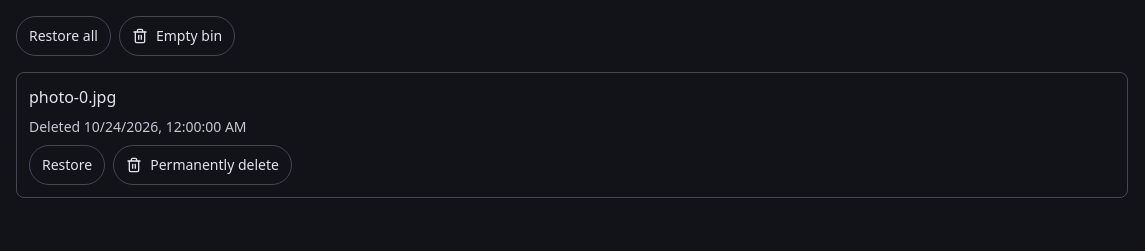
Scenario: a rejected restore keeps the row and shows the error
The image size is (1145, 251).
Click the button "Restore": (67, 165) [29,145,105,185]
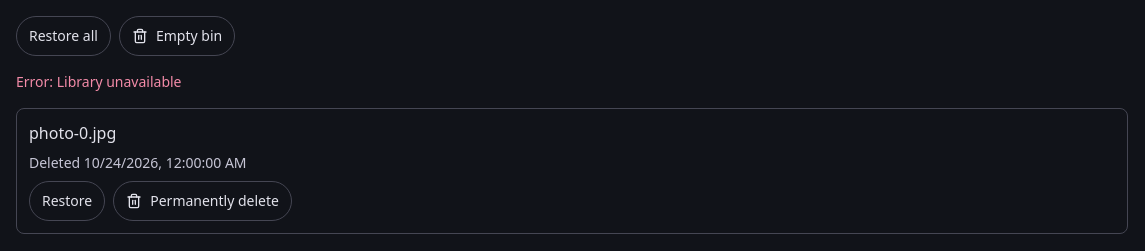
Expected: the text "photo-0.jpg" is shown, [29,122,116,144]
Expected: the message shows "Library unavailable", [16,72,182,91]
